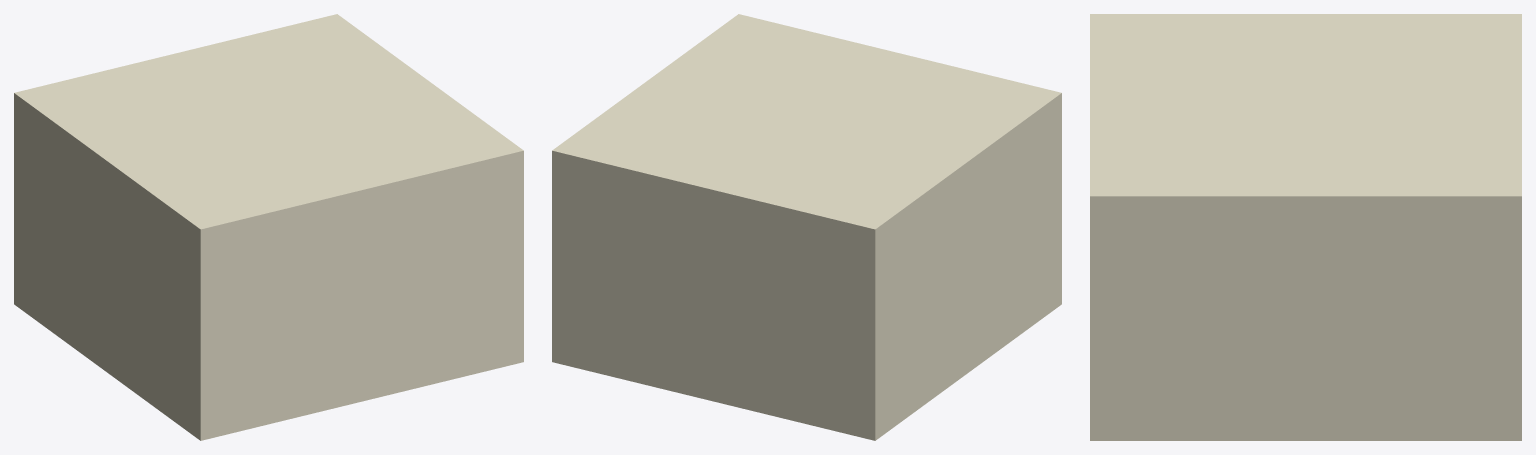
Rendered from modularbuildings_055.glb.
The picture shows the model from 3 angles, left to right: view 1: azimuth 30°, elevation 25°; view 2: azimuth 150°, elevation 25°; view 3: azimuth 270°, elevation 25°; orthographic projection. The views are drawn at different scales.
Parts seen in each view (by area): view 1: Mesh1 Group1 Model; view 2: Mesh1 Group1 Model; view 3: Mesh1 Group1 Model.
Part boxes in pixels (box(x1,y1,x2,y2)): Mesh1 Group1 Model: box(14, 14, 523, 440); Mesh1 Group1 Model: box(552, 14, 1061, 440); Mesh1 Group1 Model: box(1090, 14, 1521, 440).
Bounding box in the file's own units: 1 × 0.625 × 1.
